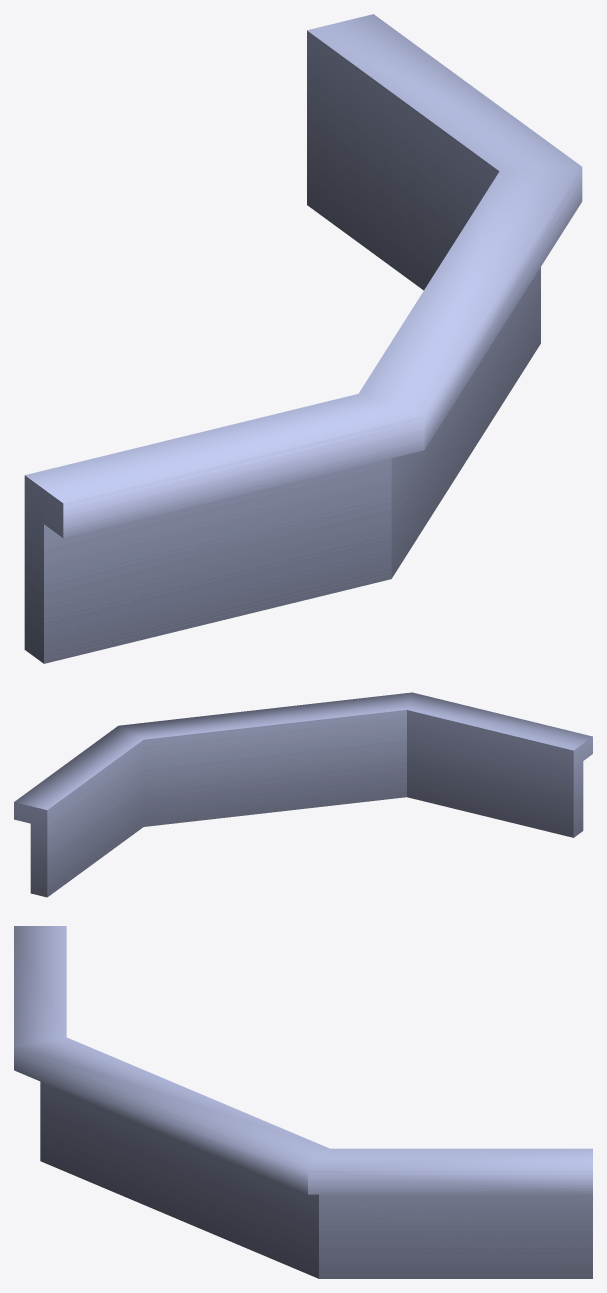
Rendered from border_high_corner_diagonal.glb.
3 views of the same model, one above another, from view 1: azimuth 30°, elevation 25°; view 2: azimuth 150°, elevation 25°; view 3: azimuth 270°, elevation 25° (orthographic). The views are drawn at different scales.
Visible parts, largest first — view 1: border-high-corner-diagonal; view 2: border-high-corner-diagonal; view 3: border-high-corner-diagonal.
Part boxes in pixels (x1,y1,x2,y2): border-high-corner-diagonal: (24,14,582,663); border-high-corner-diagonal: (14,692,592,897); border-high-corner-diagonal: (14,926,592,1278).
Bounding box in the file's own units: 2.2 × 0.5 × 2.2.
Materials: 1 (1 with a texture image).
